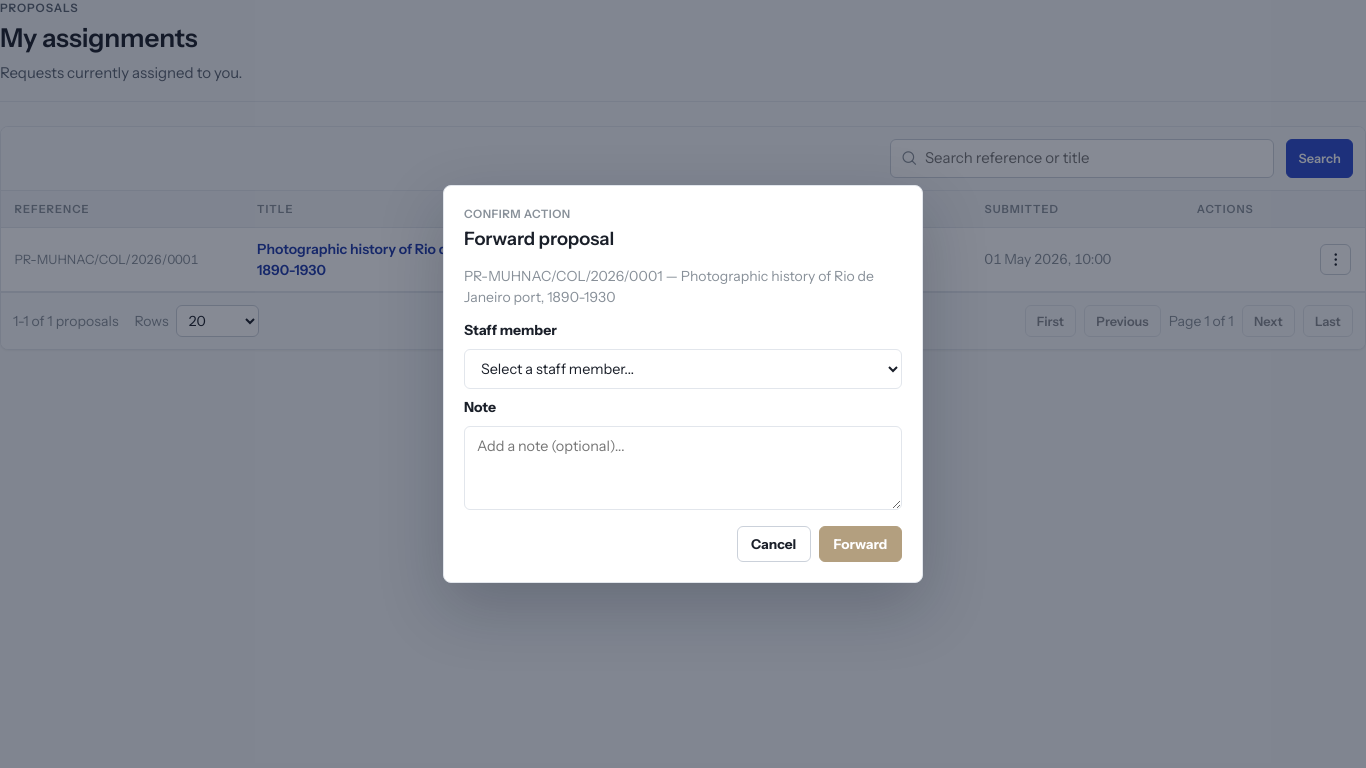
Test: ProposalsMyAssignmentsPageComponent › forwards an assignment from the confirmation modal
The image size is (1366, 768).
Expected: the dialog is shown, [443,185,923,583]
Expected: the dialog shows "PR-MUHNAC/COL/2026/0001", [464,267,874,306]
Select "Carol Lima — Curatorial" in the dropdown with id "forward-modal-target" at [683, 369], box [464,349,902,389]
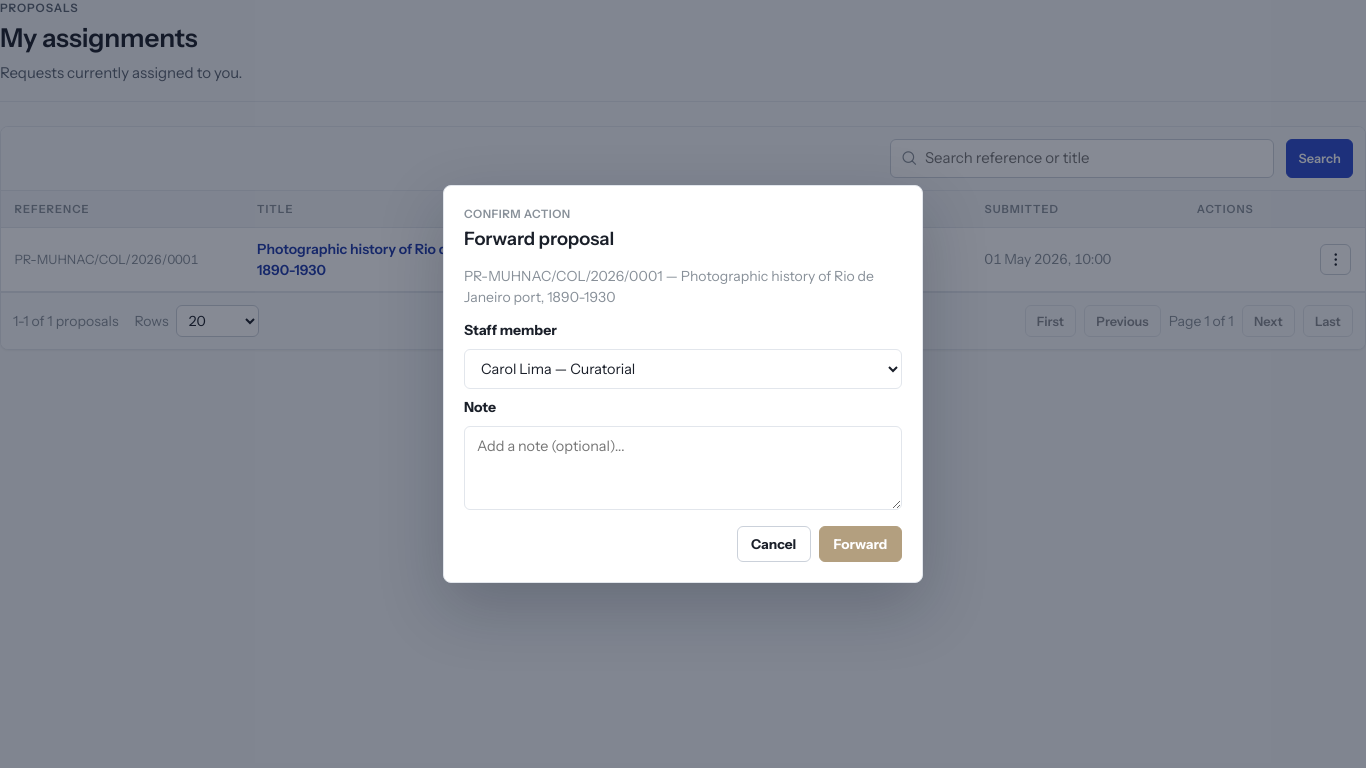
Type "Please review the curatorial aspects." into the text box with id "forward-modal-note" at [683, 468], box [464,426,902,510]
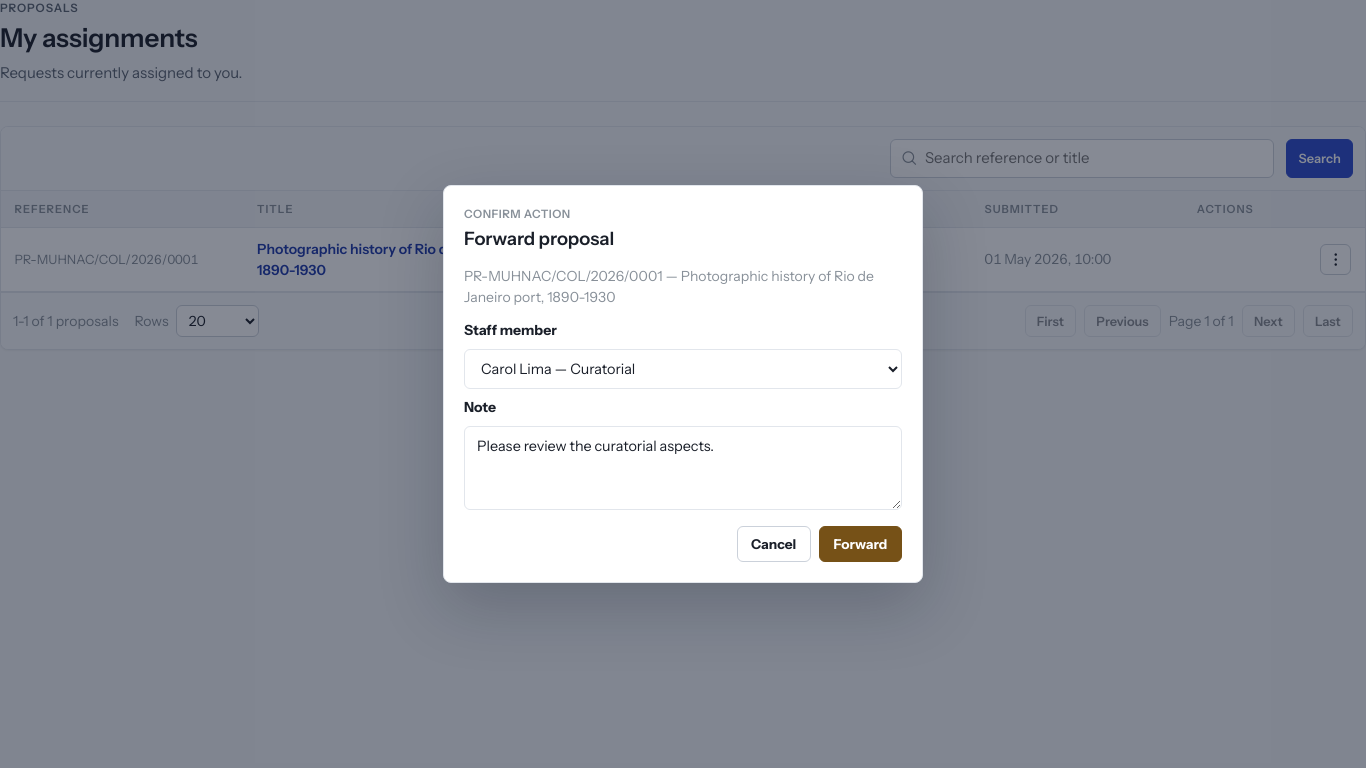
Expected: the button "Forward" is enabled
Click the button "Forward" at [860, 544], box [819,526,902,562]
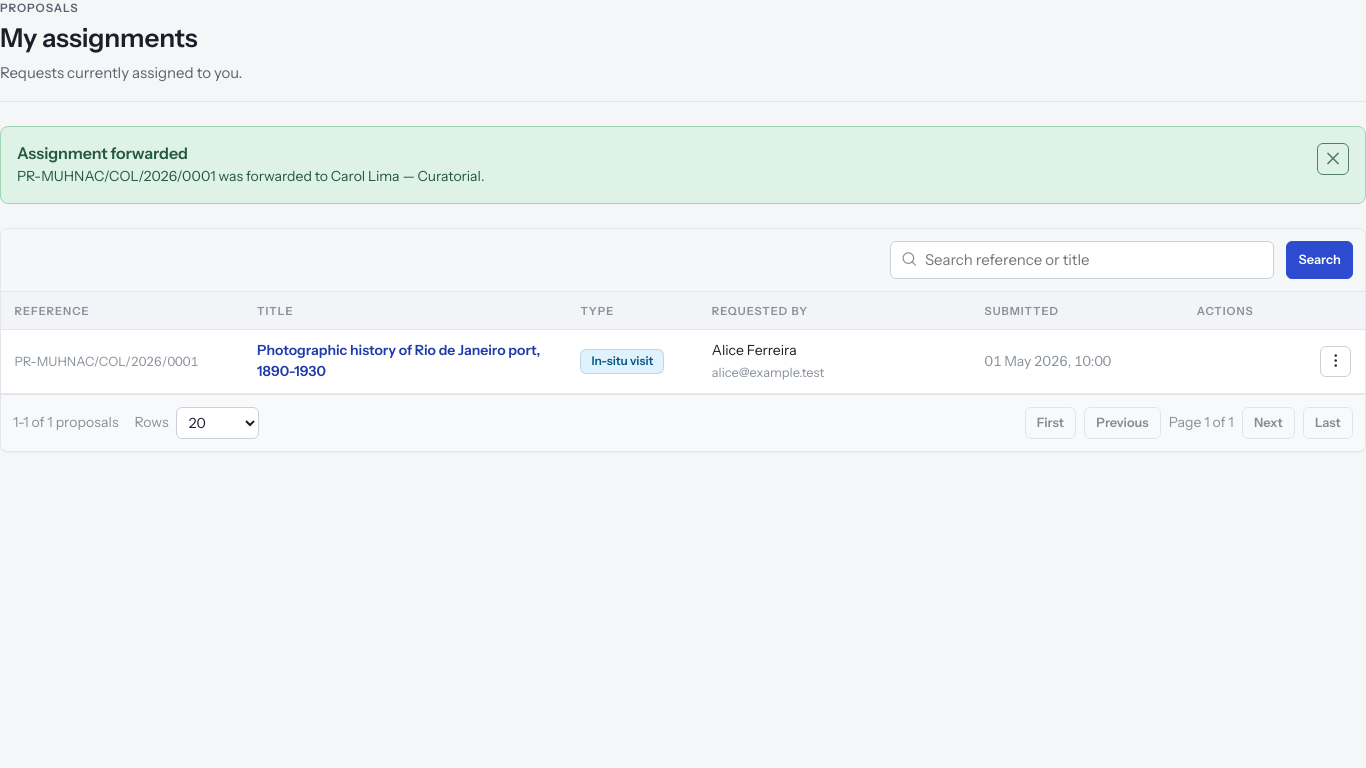
Expected: the text "Assignment forwarded" is shown, [17,143,188,163]
Expected: the text "PR-MUHNAC/COL/2026/0001 was forwarded to Carol Lima" is shown, [17,167,484,185]
